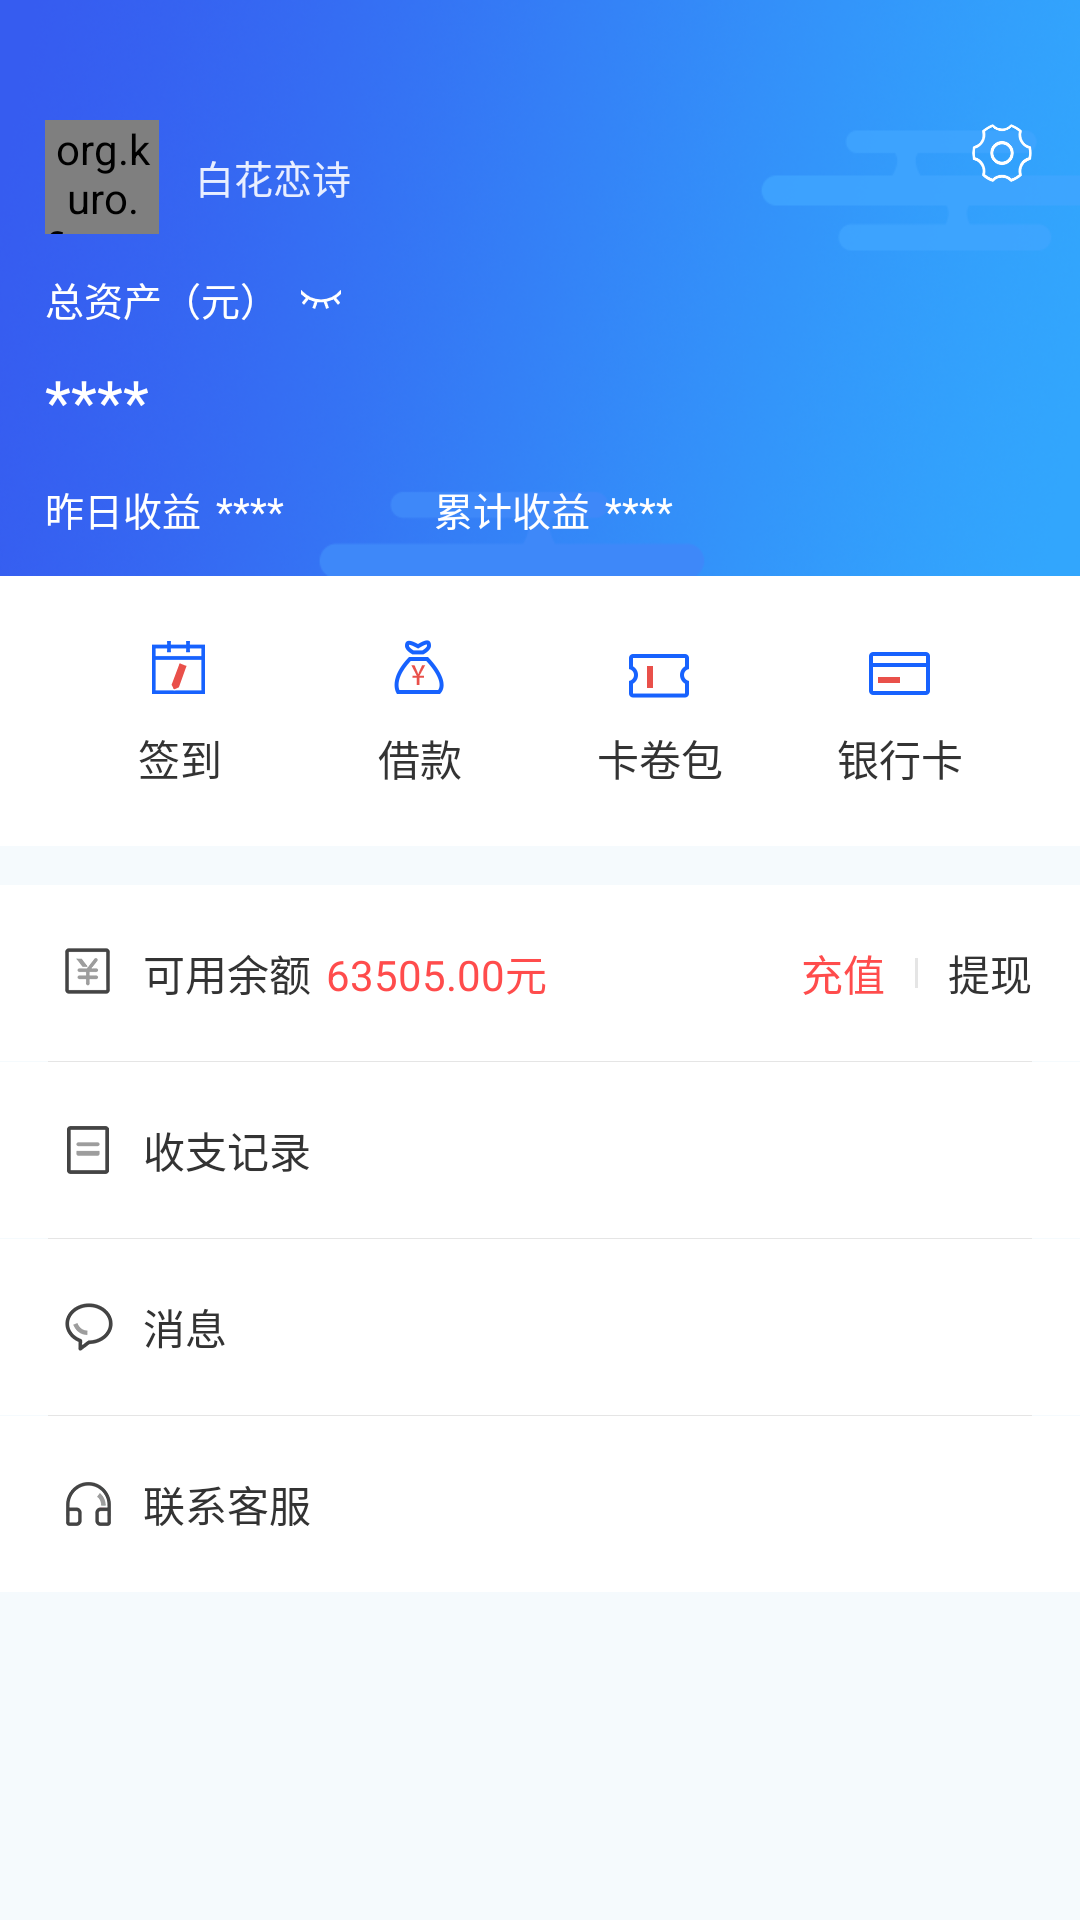

Point at icon controls on the screen. Image size 1080w x 1920h, points as [x,y].
设置: [1002,153]
